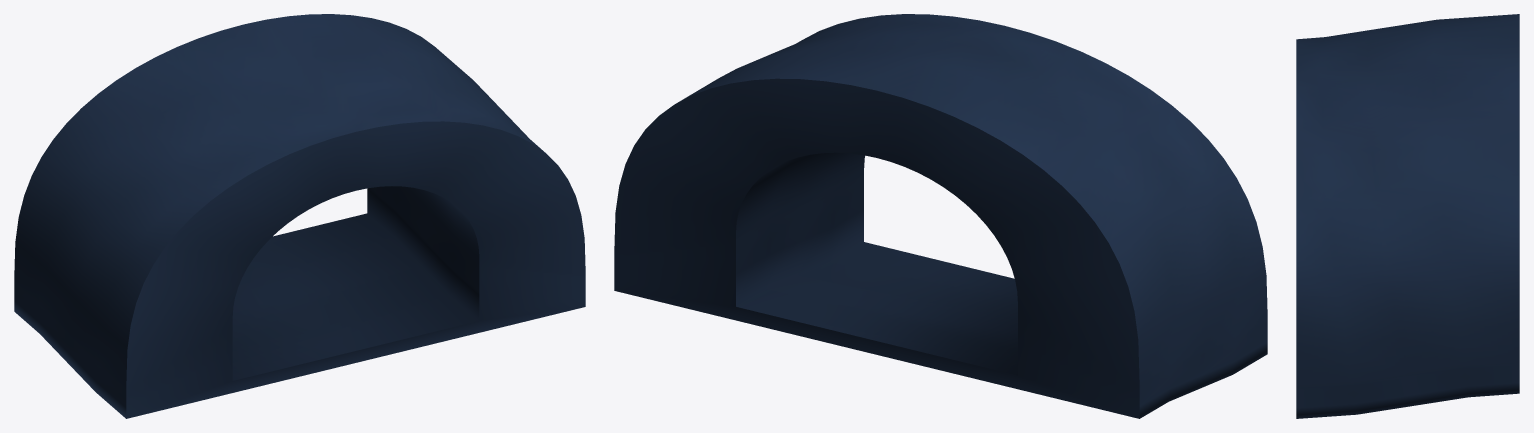
File: grade_up_terrain_lod1.glb
The picture shows the model from 3 angles, left to right: view 1: azimuth 30°, elevation 25°; view 2: azimuth 150°, elevation 25°; view 3: azimuth 270°, elevation 25°; orthographic projection. The views are drawn at different scales.
Parts seen in each view (by area): view 1: TerrainRoof.013; view 2: TerrainRoof.013; view 3: TerrainRoof.013.
Part boxes in pixels (x1,y1,x2,y2): TerrainRoof.013: [14, 14, 585, 418]; TerrainRoof.013: [614, 14, 1267, 418]; TerrainRoof.013: [1296, 14, 1519, 418].
Bounding box in the file's own units: 28.4 × 15.15 × 12.
